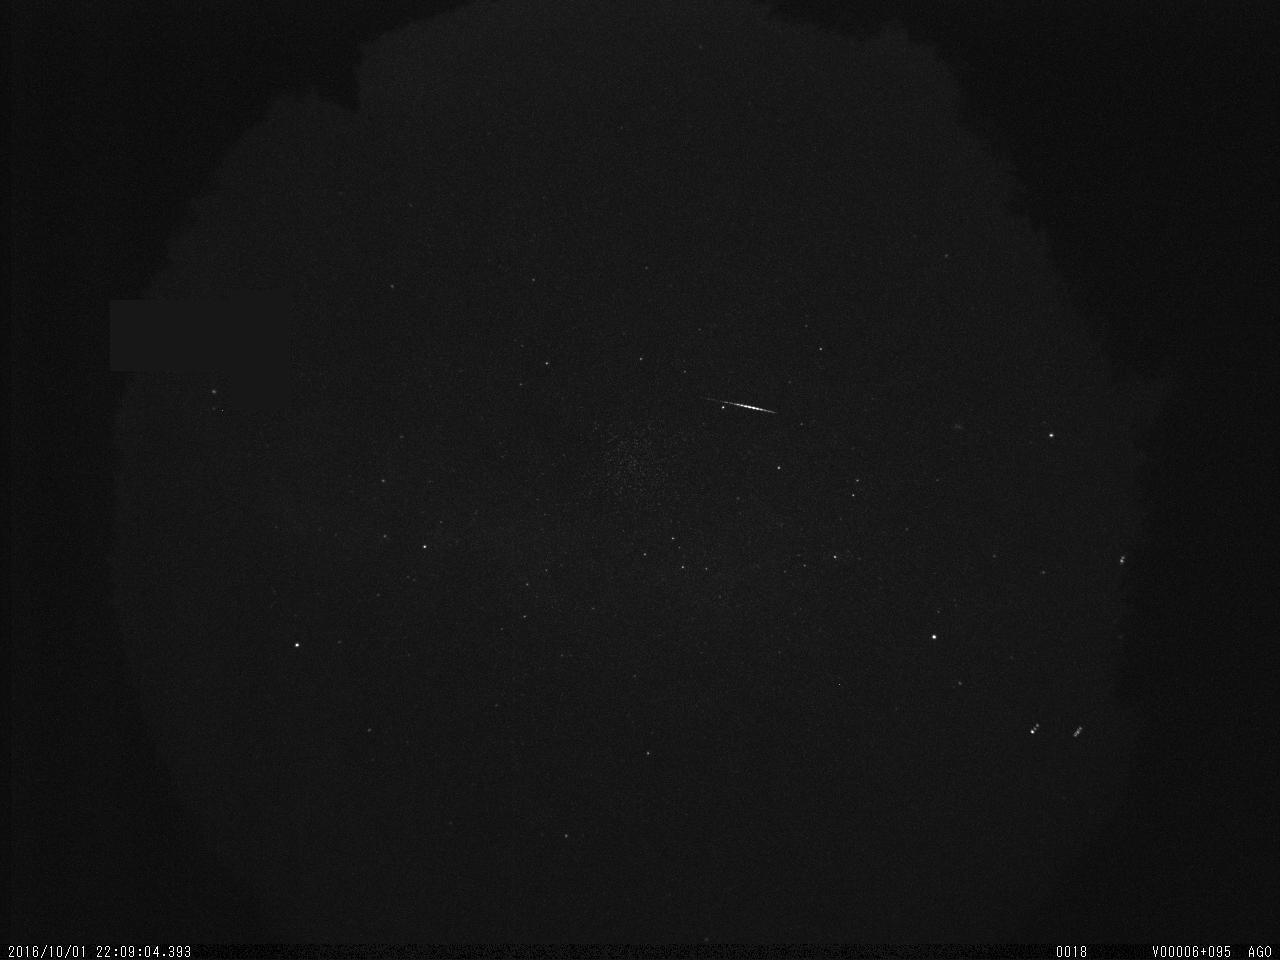meteor: (709, 373, 799, 460)
